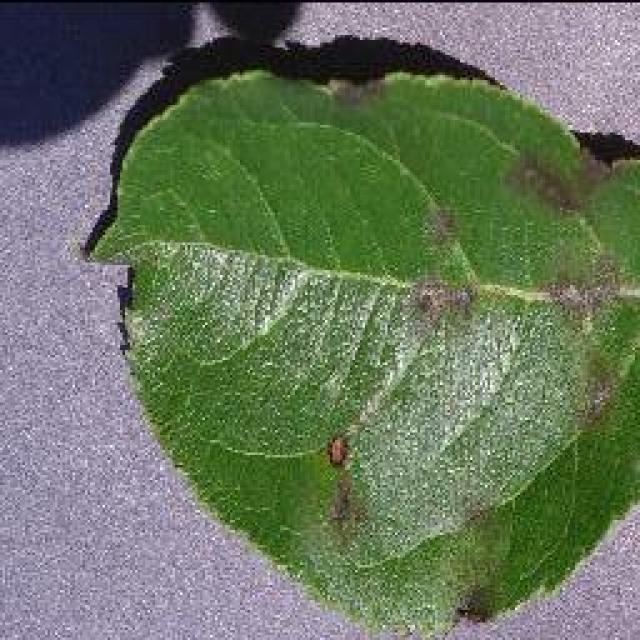apple scab disease: (82, 30, 638, 638)
